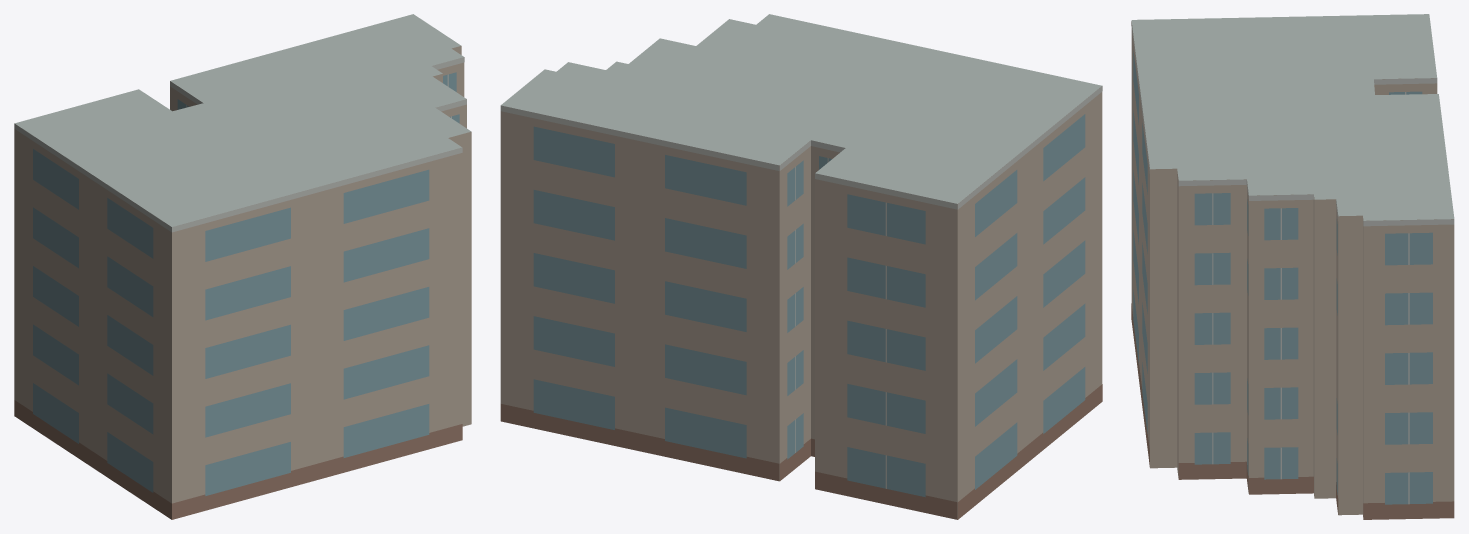
File: survey-upis-32988921.glb
3 renders of one model, left to right at view 1: azimuth 30°, elevation 25°; view 2: azimuth 150°, elevation 25°; view 3: azimuth 270°, elevation 25°, orthographic. The views are drawn at different scales.
Visible parts, largest first — view 1: survey-upis-32988921.tmp; view 2: survey-upis-32988921.tmp; view 3: survey-upis-32988921.tmp.
Boxes of the visible parts, box(x1,y1,x2,y2) form: survey-upis-32988921.tmp: box(14, 14, 471, 519); survey-upis-32988921.tmp: box(500, 14, 1102, 519); survey-upis-32988921.tmp: box(1131, 14, 1454, 519).
Size of the model in its own units: 19.89 by 13.4 by 13.13.
